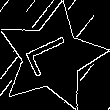L_NE: (22, 33, 81, 81)
